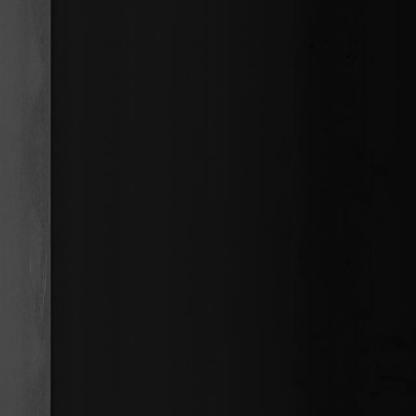silk_spot: (19, 69, 48, 375)
